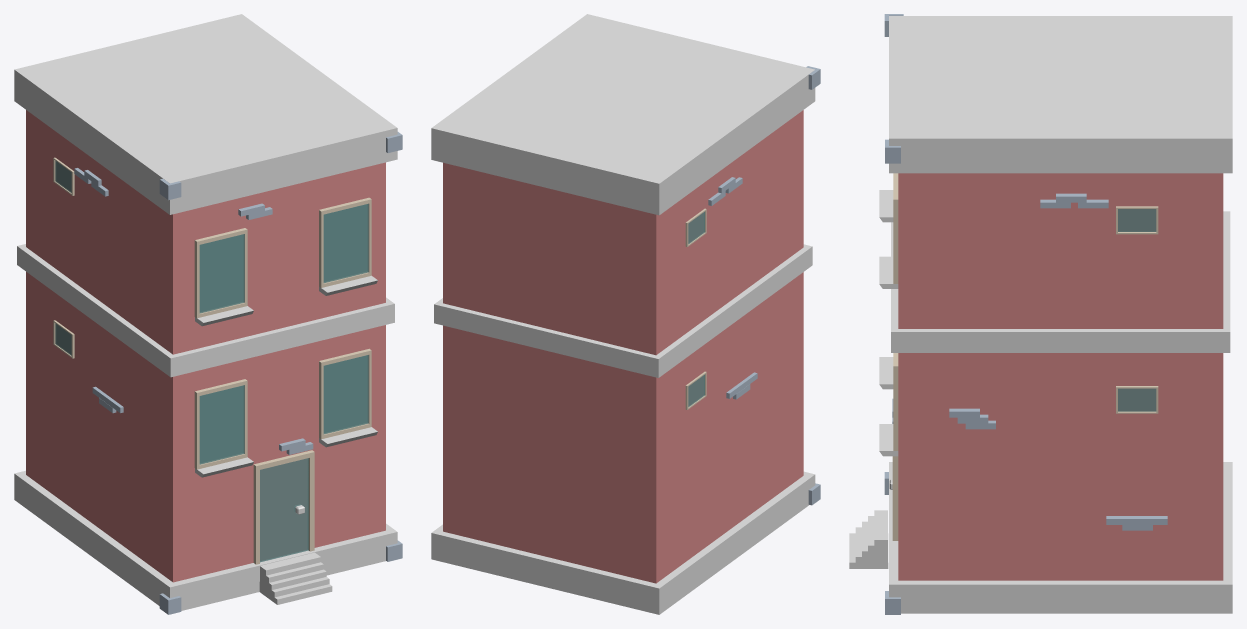
File: Apart Pink.fbx
The picture shows the model from 3 angles, left to right: view 1: azimuth 30°, elevation 25°; view 2: azimuth 150°, elevation 25°; view 3: azimuth 270°, elevation 25°; orthographic projection. The views are drawn at different scales.
Parts seen in each view (by area): view 1: pCube23, pCube32, pCube85, pCube82, pCube83, pCube84, pCube33, pCube36, pCube39, pCube37, pCube38, pCube63 (+8 smaller); view 2: pCube23; view 3: pCube23, pCube86, pCube87, pCube38, pCube33, pCube37.
Boxes of the visible parts, bbox=[...] form: pCube23: bbox=[14, 14, 397, 610]; pCube32: bbox=[260, 458, 308, 562]; pCube85: bbox=[199, 234, 244, 313]; pCube82: bbox=[199, 385, 244, 464]; pCube83: bbox=[323, 355, 368, 434]; pCube84: bbox=[323, 203, 368, 283]; pCube33: bbox=[253, 450, 314, 564]; pCube36: bbox=[194, 379, 247, 469]; pCube39: bbox=[194, 228, 247, 318]; pCube37: bbox=[319, 348, 371, 439]; pCube38: bbox=[319, 197, 371, 287]; pCube63: bbox=[260, 552, 320, 575]; pCube23: bbox=[431, 14, 815, 614]; pCube23: bbox=[889, 16, 1232, 613]; pCube86: bbox=[1118, 388, 1156, 411]; pCube87: bbox=[1118, 209, 1156, 231]; pCube38: bbox=[893, 173, 898, 283]; pCube33: bbox=[892, 456, 898, 540]; pCube37: bbox=[893, 353, 898, 450].
Bounding box in the file's own units: 7.05 × 12.37 × 9.04.
